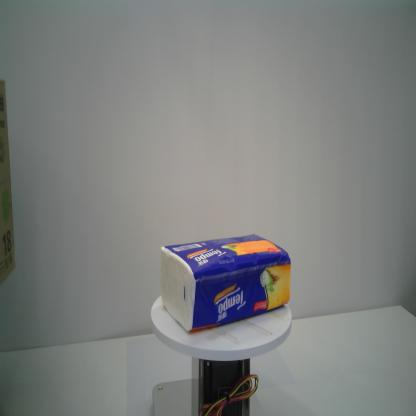Tissue: (160, 234, 291, 333)
